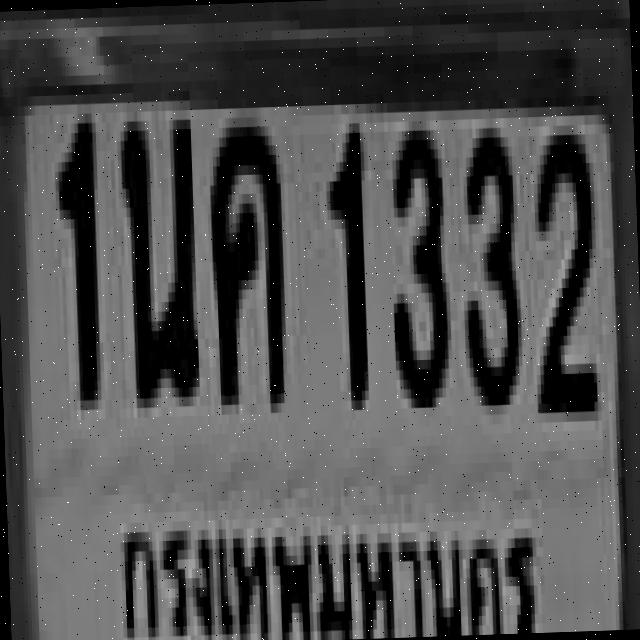1: (52, 113, 98, 401), (324, 113, 368, 401)
13KhorKhwai: (204, 116, 284, 405)
2: (526, 124, 596, 403)
3: (458, 117, 520, 396), (384, 120, 446, 398)
34NorNu: (116, 110, 196, 398)
Bangkok: (107, 479, 545, 640)
